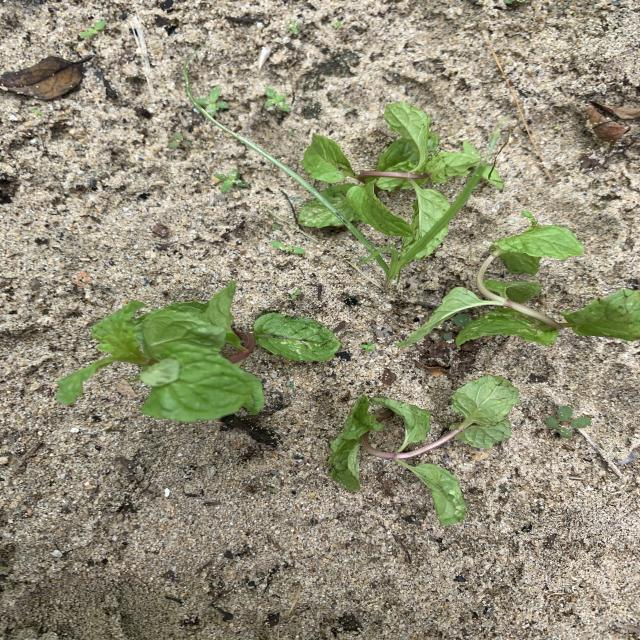crop: (58, 282, 339, 423), (399, 213, 637, 346), (328, 377, 519, 526), (300, 102, 478, 244)
weed: (220, 129, 479, 279), (463, 140, 503, 188), (546, 406, 590, 437), (197, 87, 228, 115), (212, 169, 250, 191), (264, 87, 289, 113), (270, 240, 305, 255), (79, 20, 105, 39), (169, 133, 191, 147), (285, 22, 300, 34), (360, 342, 375, 351), (291, 290, 299, 299)
